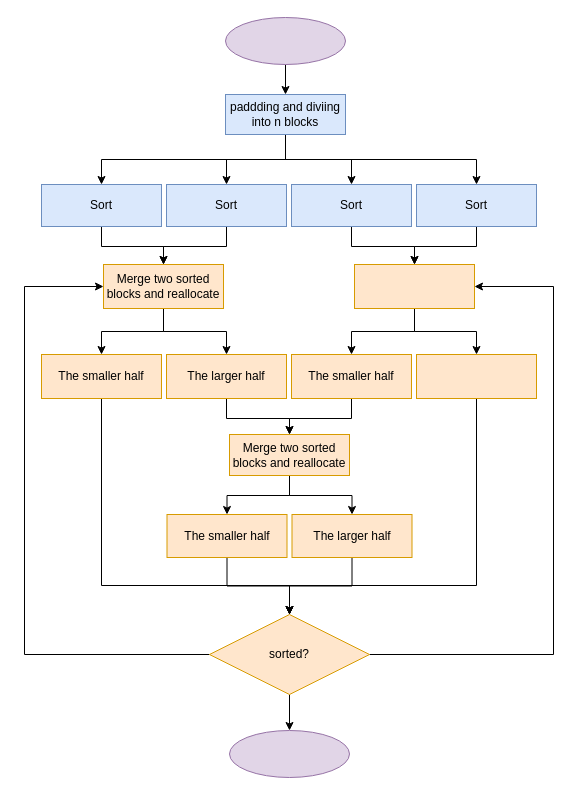
Image size: 579x795. Some labels were removed from this diagram. The shapes that lost their labels are listed below. From the top down, each one's box as (x1, y1, x2, y2) in pixels, then its label:
(224, 16, 346, 64): MPI read
(354, 264, 474, 308): Merge two sorted blocks
(416, 354, 536, 398): The lager half
(228, 730, 350, 778): MPI write
